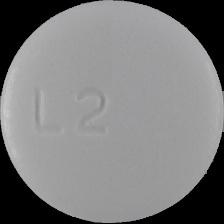13811-684: (0, 0, 224, 224)
